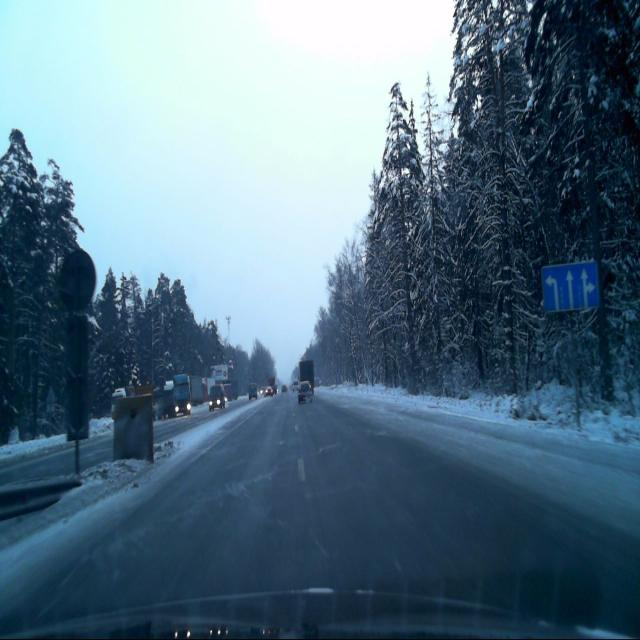object: (568, 316, 582, 432)
road sign: (540, 262, 599, 316)
